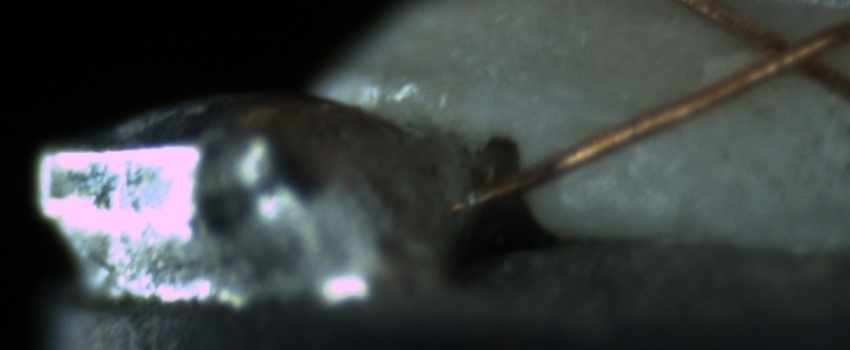CL: (738, 13, 843, 87)
